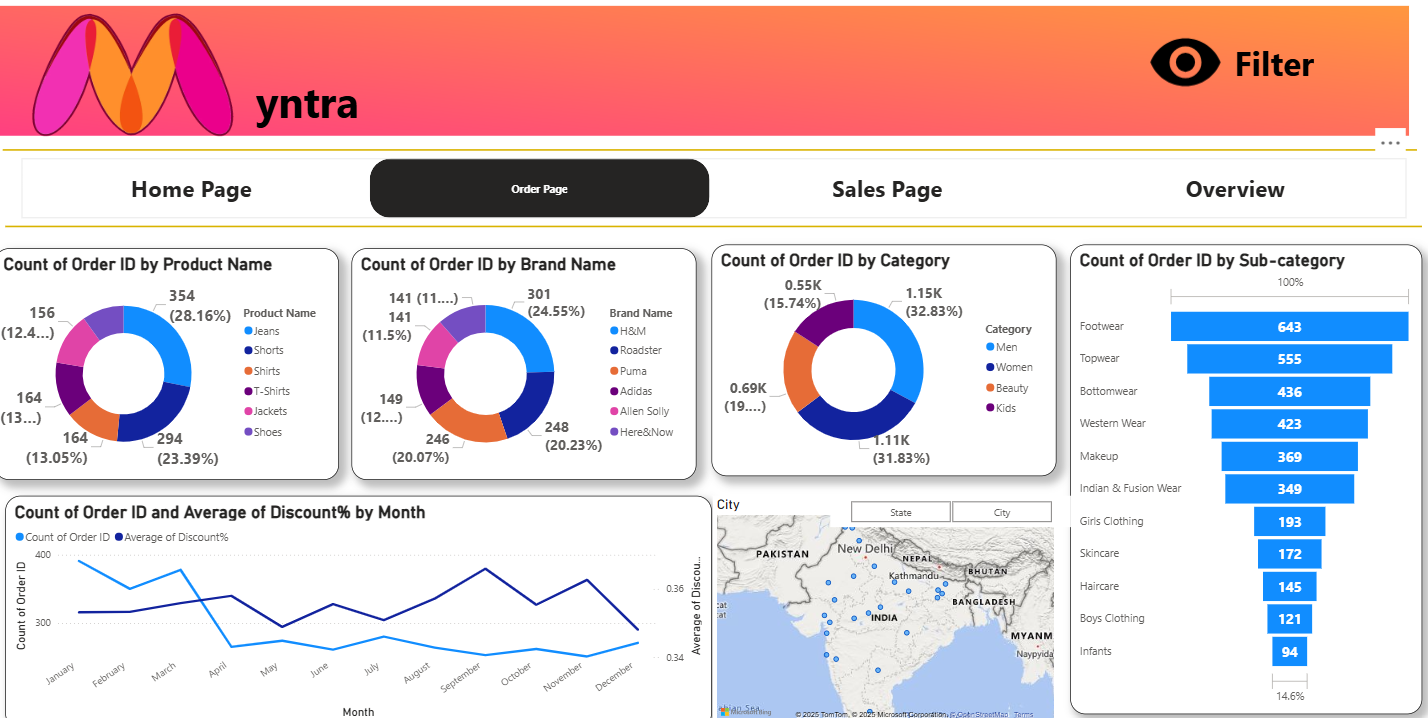

Layout of this report page (visuals, bound fields, positions):
{"tool":"powerbi","page":{"name":"Order Page","canvas":[1800,920],"ordinal":1},"visuals":[{"type":"image","box":[0,12,1773.7,172.3],"z":0,"group":"g1"},{"type":"donutChart","fields":{"Y":["CountNonNull(fact_orders.Order ID)"],"Category":["dim_products.Product Name"]},"box":[0,320.7,430.9,289.6],"z":0},{"type":"shape","box":[11.4,132.4,1767.6,129.2],"z":1000},{"type":"group","id":"g1","title":"Group 2","box":[0,12,1773.7,172.3],"z":2000},{"type":"image","box":[15.2,21.1,325.6,163.1],"z":2500,"group":"g1"},{"type":"actionButton","box":[279.5,100.3,223.6,79],"z":3000,"group":"g1"},{"type":"shape","box":[14.7,220.7,1770.9,145.5],"z":3000},{"type":"donutChart","fields":{"Y":["CountNonNull(fact_orders.Order ID)"],"Category":["dim_products.Brand Name"]},"box":[447.6,320.7,430.9,289.6],"z":4000},{"type":"donutChart","fields":{"Y":["CountNonNull(fact_orders.Order ID)"],"Category":["dim_products.Category"]},"box":[897.6,316,430.9,289.6],"z":5000},{"type":"lineChart","fields":{"Category":["fact_orders.Date.Variation.Date Hierarchy.Month"],"Y":["Count(fact_orders.Order ID)"],"Y2":["Avg(fact_orders.Discount%)"]},"box":[14.7,629.5,883,291.1],"z":6000},{"type":"funnel","fields":{"Y":["CountNonNull(fact_orders.Order ID)"],"Category":["dim_products.Sub-category"]},"box":[1345.8,315.6,439.9,587],"z":7000},{"type":"map","fields":{"Category":["dim_customers.City"]},"box":[898,630,431,290],"z":8000},{"type":"slicer","fields":{"Values":["city state paramerter.city state paramerter"]},"box":[1044.9,629.5,300.9,39.2],"z":9000},{"type":"pageNavigator","box":[34.3,207.7,1731.7,75.2],"z":10000},{"type":"actionButton","box":[1437.5,36.2,263.8,103.8],"z":11000}]}

Visuals, with their boxes in screenshot pixels (x1, y1, x2, y2), scaled from the page's 1800x920 canvas onto the 1428x718 screenshot:
image: rect(0, 9, 1407, 144)
donutChart - CountNonNull(fact_orders.Order ID) x dim_products.Product Name: rect(0, 250, 342, 476)
shape: rect(9, 103, 1411, 204)
"Group 2" group: rect(0, 9, 1407, 144)
image: rect(12, 16, 270, 144)
actionButton: rect(222, 78, 399, 140)
shape: rect(12, 172, 1417, 286)
donutChart - CountNonNull(fact_orders.Order ID) x dim_products.Brand Name: rect(355, 250, 697, 476)
donutChart - CountNonNull(fact_orders.Order ID) x dim_products.Category: rect(712, 247, 1054, 473)
lineChart - fact_orders.Date.Variation.Date Hierarchy.Month x Count(fact_orders.Order ID): rect(12, 491, 712, 717)
funnel - CountNonNull(fact_orders.Order ID) x dim_products.Sub-category: rect(1068, 246, 1417, 704)
map - dim_customers.City: rect(712, 492, 1054, 717)
slicer - city state paramerter.city state paramerter: rect(829, 491, 1068, 522)
pageNavigator: rect(27, 162, 1401, 221)
actionButton: rect(1140, 28, 1350, 109)
